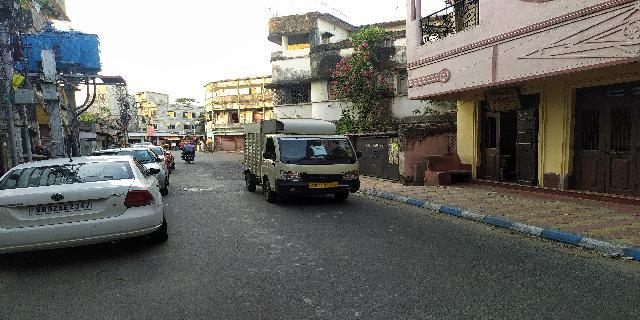Car: (1, 155, 170, 252)
Minitruck: (236, 115, 364, 213)
Motorbike: (178, 132, 199, 168)
